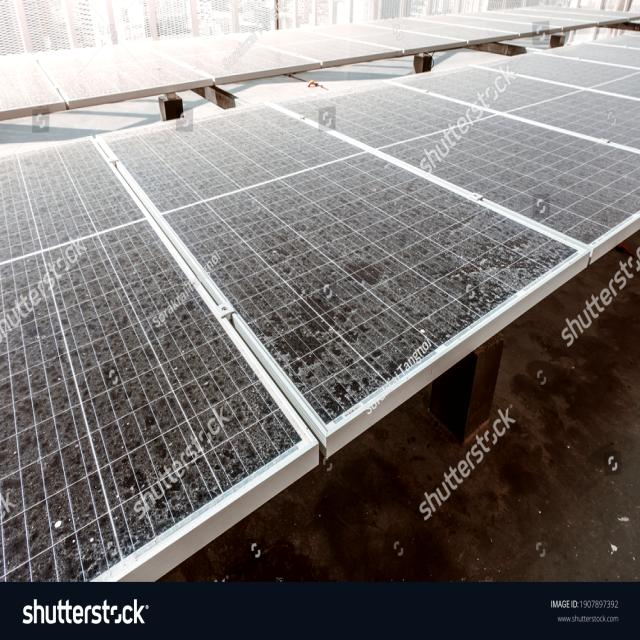dust: (1, 262, 88, 576), (95, 249, 160, 526), (330, 163, 417, 292), (440, 124, 597, 191), (301, 294, 410, 382), (226, 194, 312, 300), (170, 337, 228, 490), (5, 151, 81, 262), (180, 110, 276, 194), (340, 88, 440, 160), (430, 216, 496, 316), (491, 68, 599, 116)
